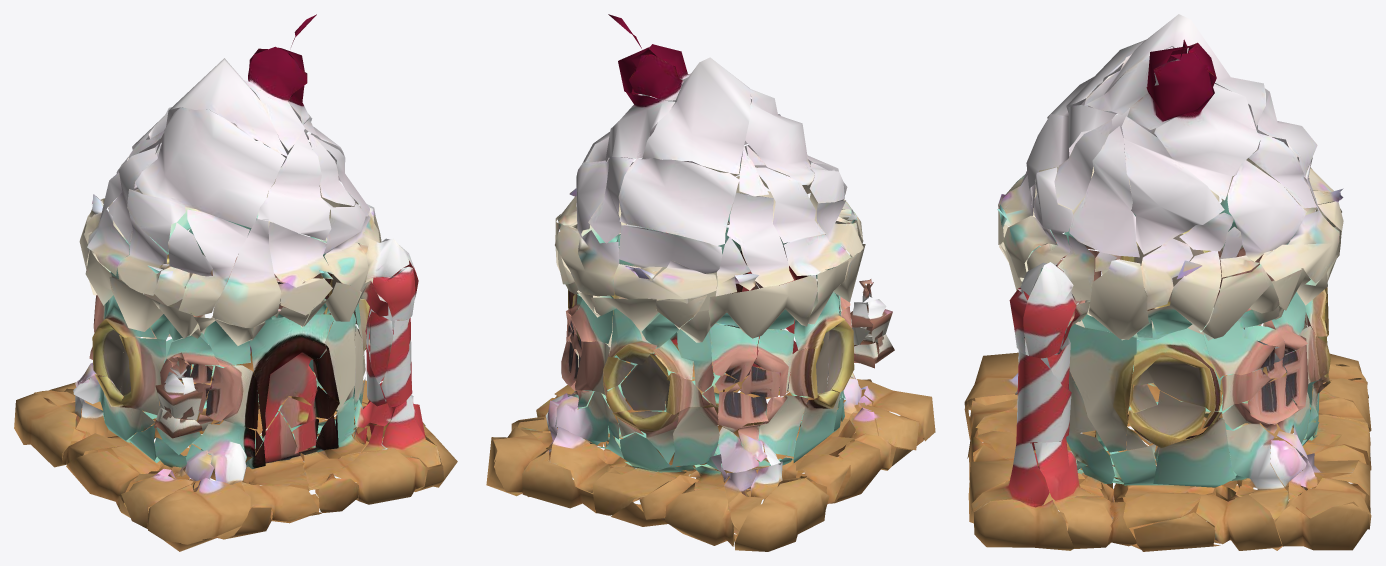
Rendered from shop-barber-chantilly.glb.
3 views of the same model, side by side, from view 1: azimuth 30°, elevation 25°; view 2: azimuth 150°, elevation 25°; view 3: azimuth 270°, elevation 25° (orthographic). The views are drawn at different scales.
Visible parts, largest first — view 1: Mesh_0; view 2: Mesh_0; view 3: Mesh_0.
Part boxes in pixels (x1,y1,x2,y2): Mesh_0: (14,14,457,551); Mesh_0: (486,14,935,551); Mesh_0: (964,14,1371,551).
Bounding box in the file's own units: 1.41 × 1.9 × 1.44.
Materials: 1 (1 with a texture image).
